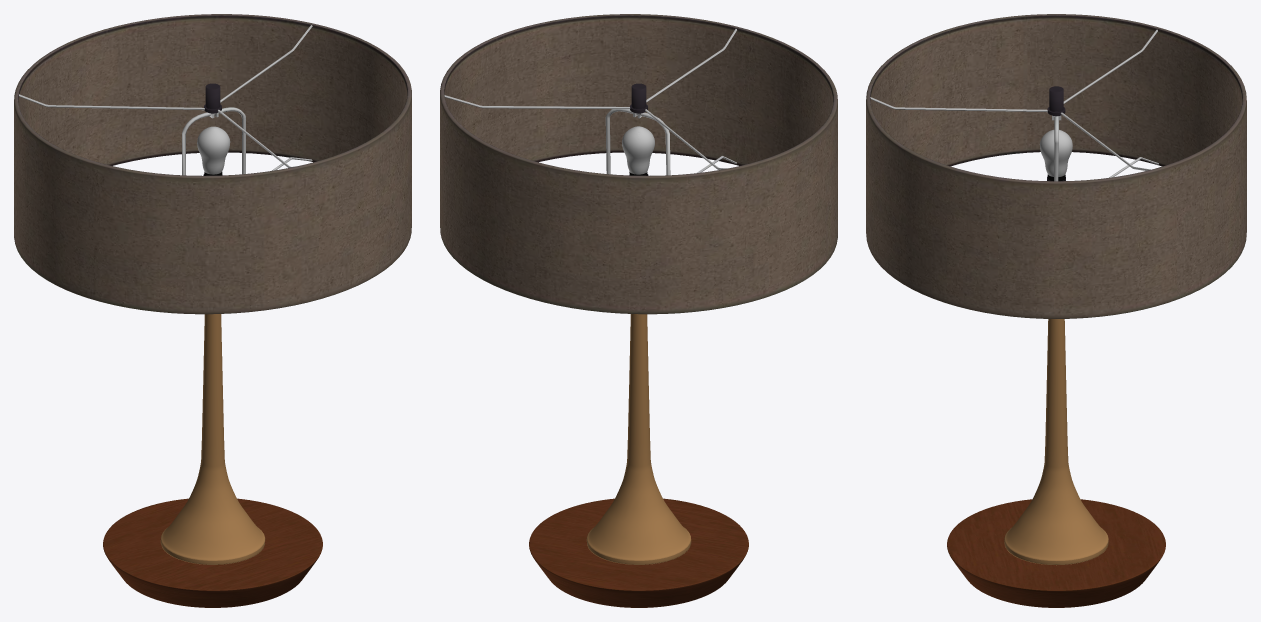
Rendered from abo-B075X2FZSM.glb.
3 views of the same model, side by side, from view 1: azimuth 30°, elevation 25°; view 2: azimuth 150°, elevation 25°; view 3: azimuth 270°, elevation 25° (orthographic).
Size of the model in its own units: 0.417 by 0.551 by 0.396.
Materials: 1 (1 with a texture image).
